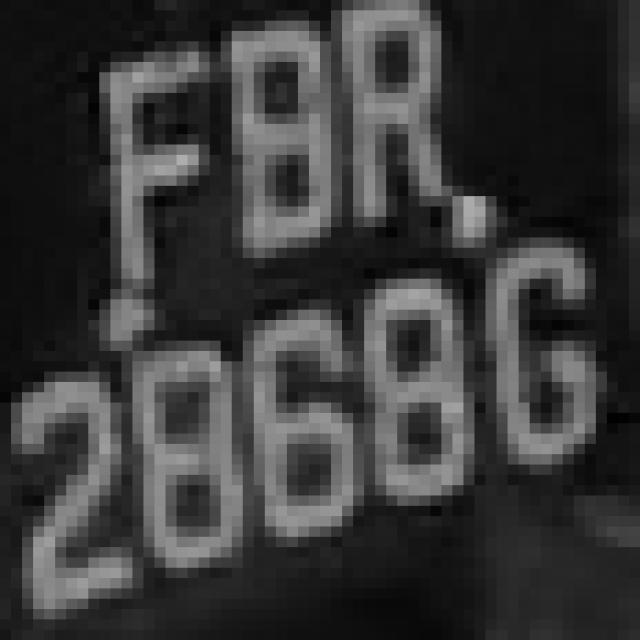2: (0, 361, 143, 619)
6: (221, 309, 353, 536)
8: (331, 268, 475, 506), (121, 340, 243, 568)
B: (188, 21, 342, 289)
F: (77, 41, 210, 310)
G: (474, 248, 618, 506)
R: (319, 0, 474, 237)
